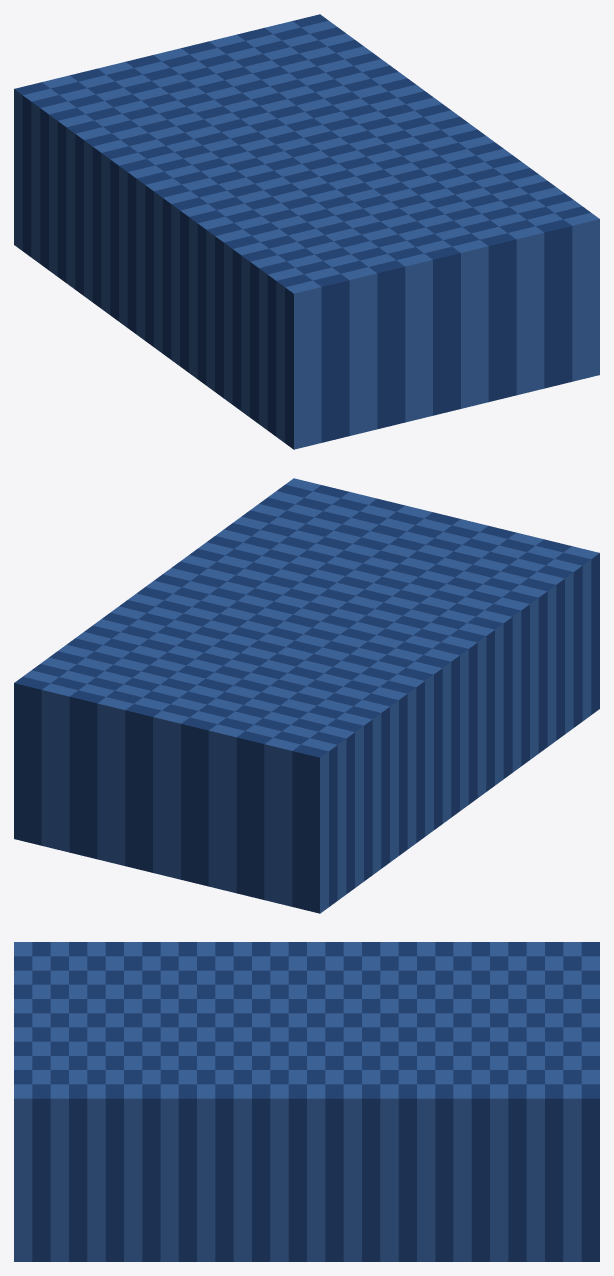
3 views of the same model, one above another, from view 1: azimuth 30°, elevation 25°; view 2: azimuth 150°, elevation 25°; view 3: azimuth 270°, elevation 25° (orthographic). The views are drawn at different scales.
Visible parts, largest first — view 1: Cube.010; view 2: Cube.010; view 3: Cube.010.
Part boxes in pixels (x1,y1,x2,y2): Cube.010: (14, 14, 599, 449); Cube.010: (14, 478, 599, 913); Cube.010: (14, 942, 599, 1261).
Bounding box in the file's own units: 3016 × 1468 × 4776.
